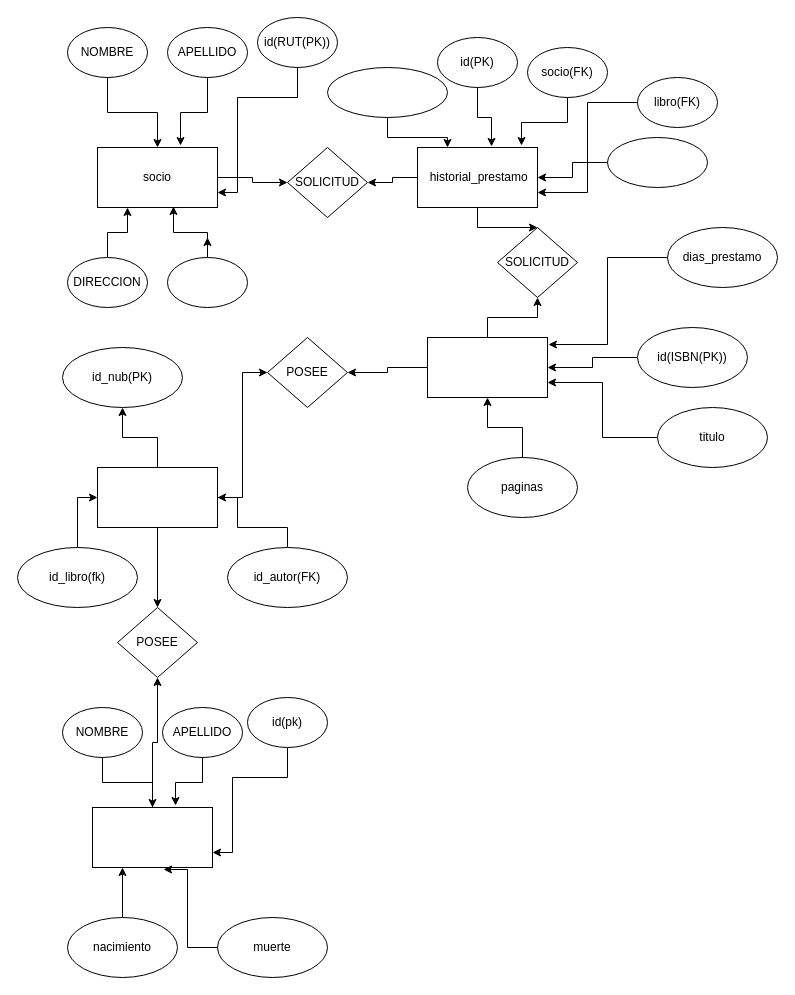
The diagram is 795 pixels wide and 995 high, and some of its shapes have lost their labels. Here are the shapes that lost their labels. From the top down, the centre of each, then its label:
(x=387, y=92): fecha_devolucion
(x=657, y=162): fecha_prestamo
(x=207, y=282): TELEFONO
(x=487, y=367): libros
(x=157, y=497): nub_autor
(x=152, y=837): AUTOR
